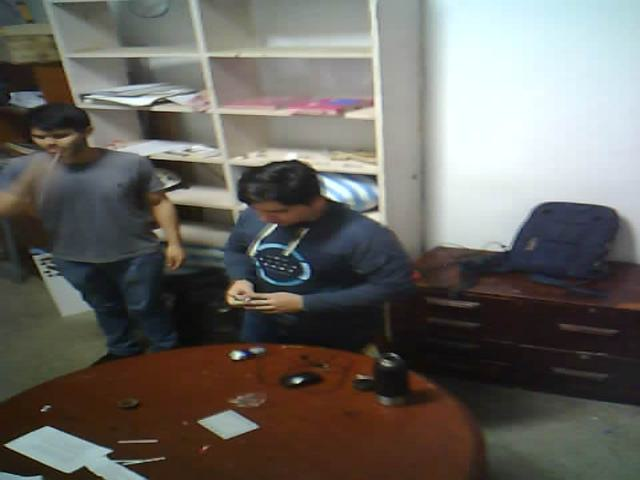person: (2, 89, 192, 394), (194, 141, 428, 383)
